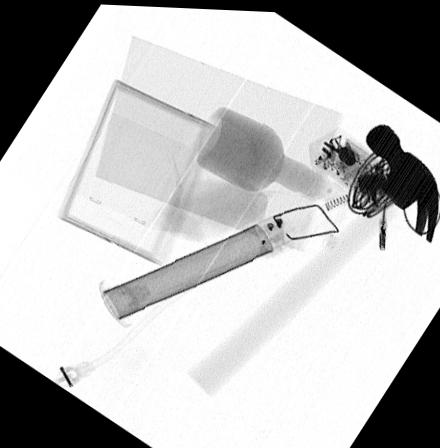Hammer: (187, 119, 439, 394)
